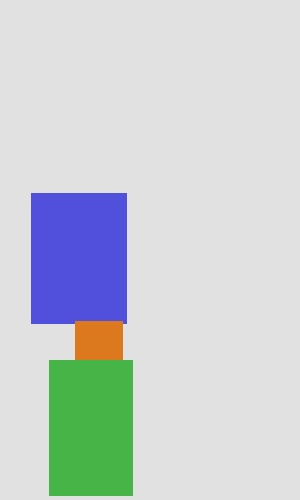square: (75, 321, 122, 453)
tall_box: (31, 193, 126, 323)
wide_box: (49, 360, 132, 495)
